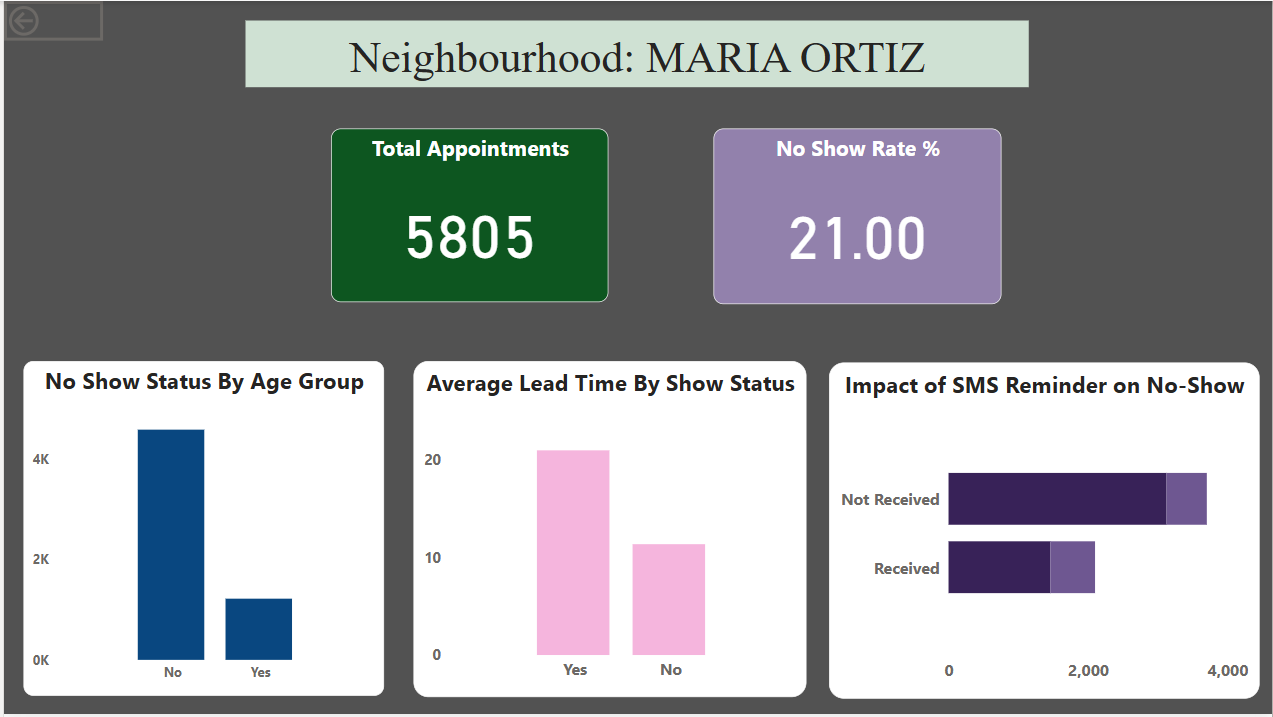

This screenshot's page, from the dashboard's own definition file:
{"tool":"powerbi","page":{"name":"Neighborhood Details","canvas":[1280,720],"ordinal":1},"visuals":[{"type":"actionButton","box":[0,0,100,40],"z":0},{"type":"card","title":"Total Appointments","fields":{"Values":["hospital_appointments.appointmentid"]},"box":[330.1,128.7,280.1,175.6],"z":1000},{"type":"card","title":"No Show Rate %","fields":{"Values":["Measures (2).NoShow Rate %"]},"box":[716.2,128.7,290.7,177.2],"z":2000},{"type":"columnChart","title":"No Show Status By Age Group","fields":{"Category":["hospital_appointments.no_show_status"],"Y":["hospital_appointments.age_group"]},"box":[19.8,362.7,364.2,338.3],"z":3000},{"type":"columnChart","title":"Average Lead Time By Show Status","fields":{"Category":["hospital_appointments.no_show_status"],"Y":["hospital_appointments.lead_time"]},"box":[413.4,363.4,396.7,339.2],"z":4000},{"type":"barChart","title":"Impact of SMS Reminder on No-Show","fields":{"Category":["hospital_appointments.SMS_Status"],"Y":["hospital_appointments.appointmentid"],"Series":["hospital_appointments.no_show_status"]},"box":[832.8,364.9,434.6,339.2],"z":5000},{"type":"card","fields":{"Values":["Measures (2).SelectedNeighbourhood"]},"box":[243.8,19.8,790.9,67],"z":6000}]}

Visuals, with their boxes in screenshot pixels (x1, y1, x2, y2), scaled from the page's 1280x720 canvas onto the 1273x717 screenshot:
actionButton: box=[0, 0, 99, 40]
"Total Appointments" card: box=[328, 128, 607, 303]
"No Show Rate %" card: box=[712, 128, 1001, 305]
"No Show Status By Age Group" columnChart: box=[20, 361, 382, 698]
"Average Lead Time By Show Status" columnChart: box=[411, 362, 806, 700]
"Impact of SMS Reminder on No-Show" barChart: box=[828, 363, 1260, 701]
card - Measures (2).SelectedNeighbourhood: box=[242, 20, 1029, 86]
